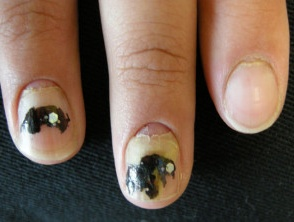SJS-TEN: (0, 54, 93, 171), (114, 106, 196, 210), (211, 47, 293, 137)
